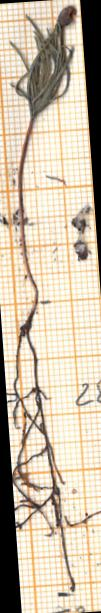flower: (1, 0, 87, 120)
root: (0, 300, 79, 602)
stem: (10, 118, 48, 300)
